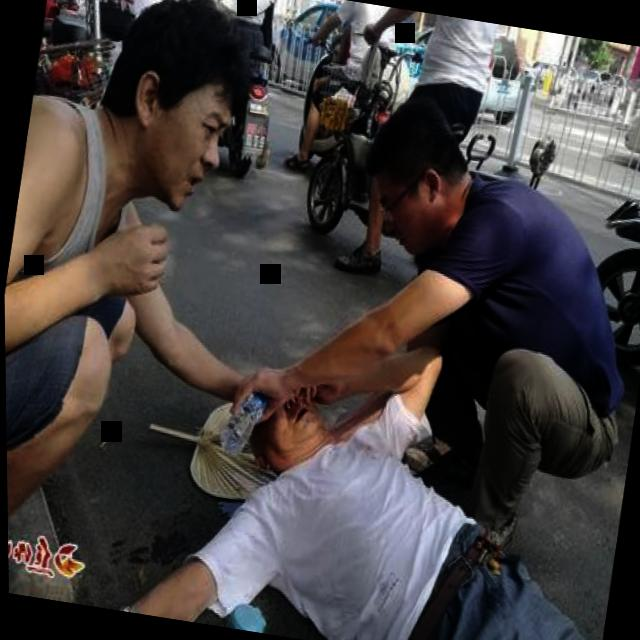Fall-Detected: (67, 305, 640, 640)
